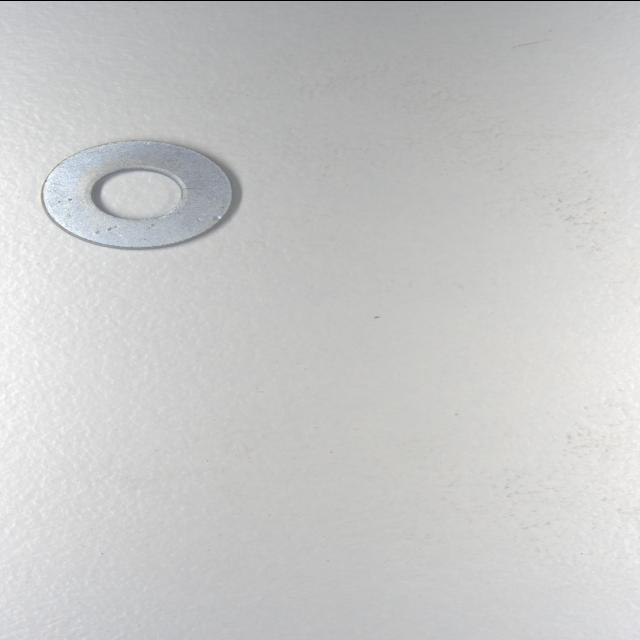washer: (38, 138, 235, 250)
